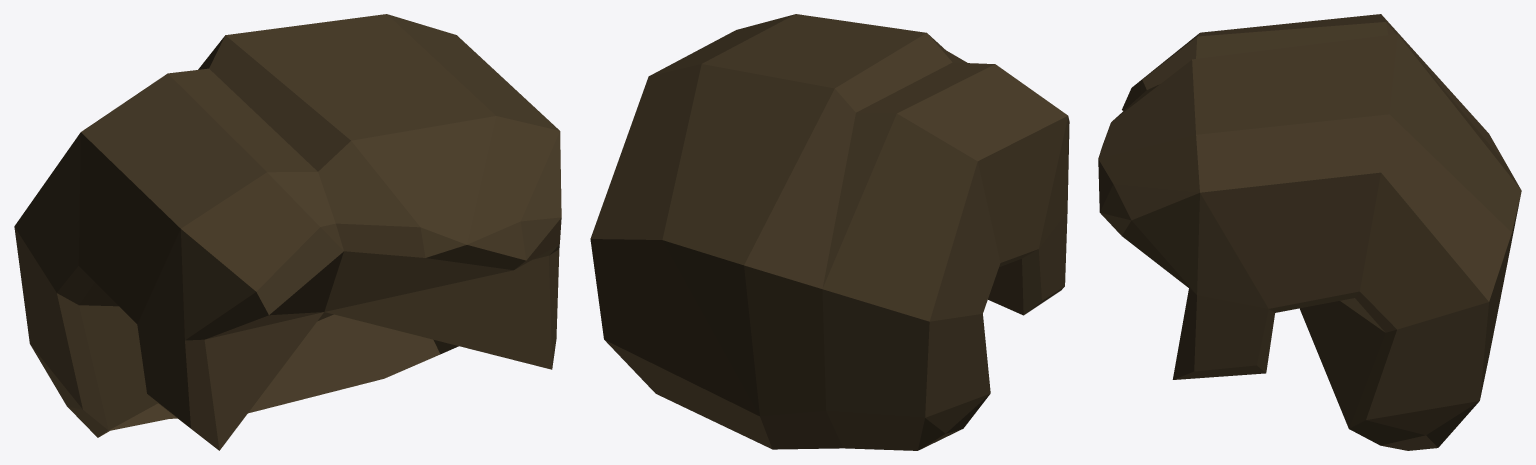
File: Chr_Hair_03_Static.fbx
3 renders of one model, left to right at view 1: azimuth 30°, elevation 25°; view 2: azimuth 150°, elevation 25°; view 3: azimuth 270°, elevation 25°, orthographic. The views are drawn at different scales.
Parts seen in each view (by area): view 1: Chr_Hair_03_Static; view 2: Chr_Hair_03_Static; view 3: Chr_Hair_03_Static.
Part boxes in pixels (x1=…): Chr_Hair_03_Static: x1=14, y1=14, x2=561, y2=450; Chr_Hair_03_Static: x1=590, y1=14, x2=1069, y2=450; Chr_Hair_03_Static: x1=1098, y1=14, x2=1521, y2=450.
Size of the model in its own units: 0.2475 by 0.2346 by 0.2512.
